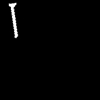half_double_crochet: (9, 3, 17, 37)
